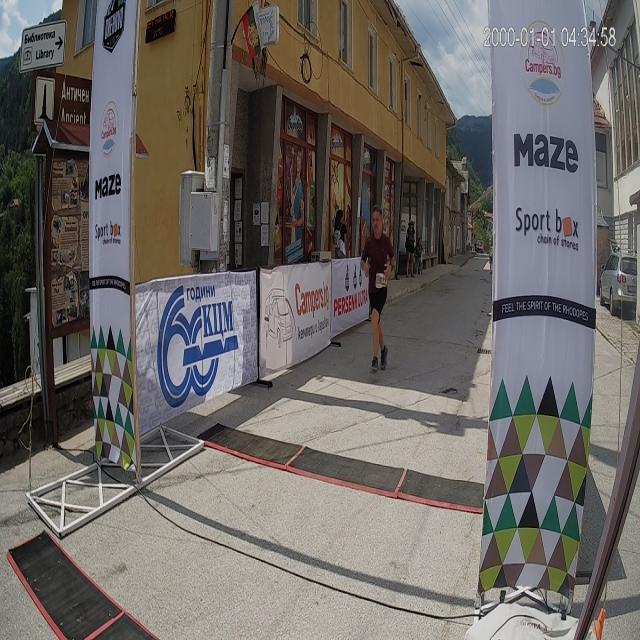runner: (351, 178, 402, 404)
